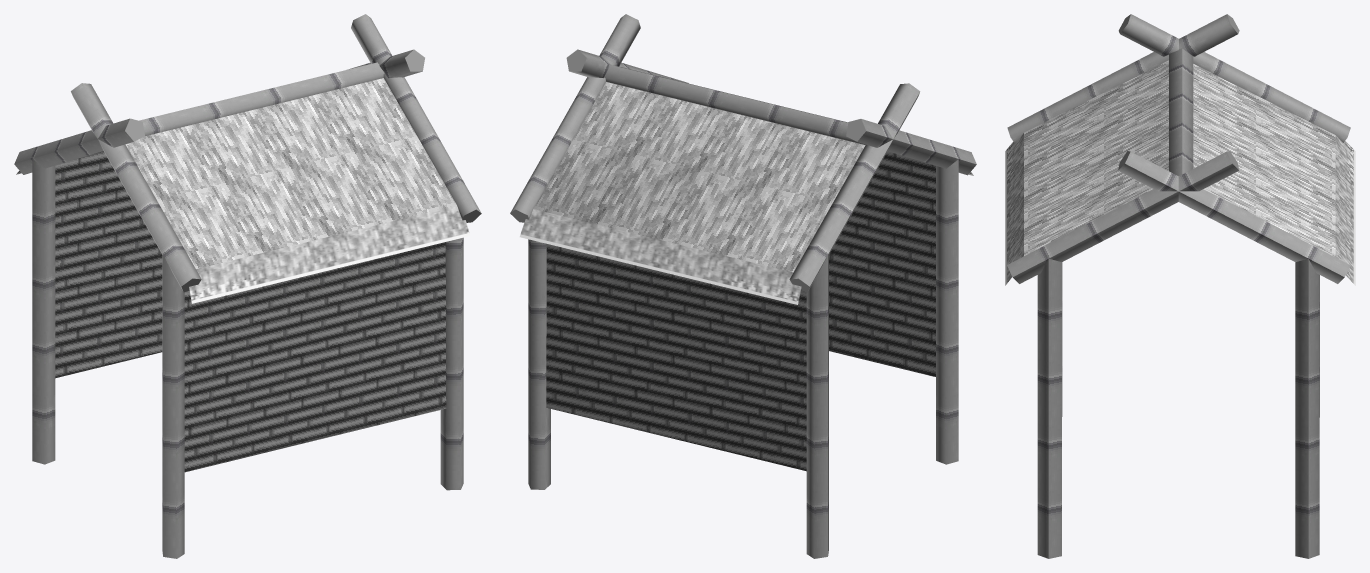
The model's file is bamboo-hut-01.gltf.
The picture shows the model from 3 angles, left to right: view 1: azimuth 30°, elevation 25°; view 2: azimuth 150°, elevation 25°; view 3: azimuth 270°, elevation 25°; orthographic projection.
Parts seen in each view (by area): view 1: bamboohut01; view 2: bamboohut01; view 3: bamboohut01.
Part boxes in pixels (bbox=[...]): bamboohut01: bbox=[14, 14, 481, 558]; bamboohut01: bbox=[510, 14, 976, 558]; bamboohut01: bbox=[1005, 14, 1355, 558].
Bounding box in the file's own units: 57.45 × 74.3 × 58.45.
Materials: 4 (4 with a texture image).
